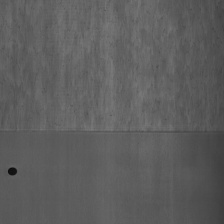punching_hole: (3, 7, 214, 122), (0, 124, 222, 138), (6, 164, 18, 179)
